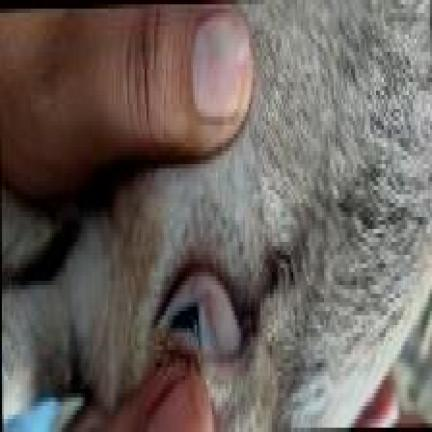goat-eye-anemia-22222222: (154, 264, 255, 363)
